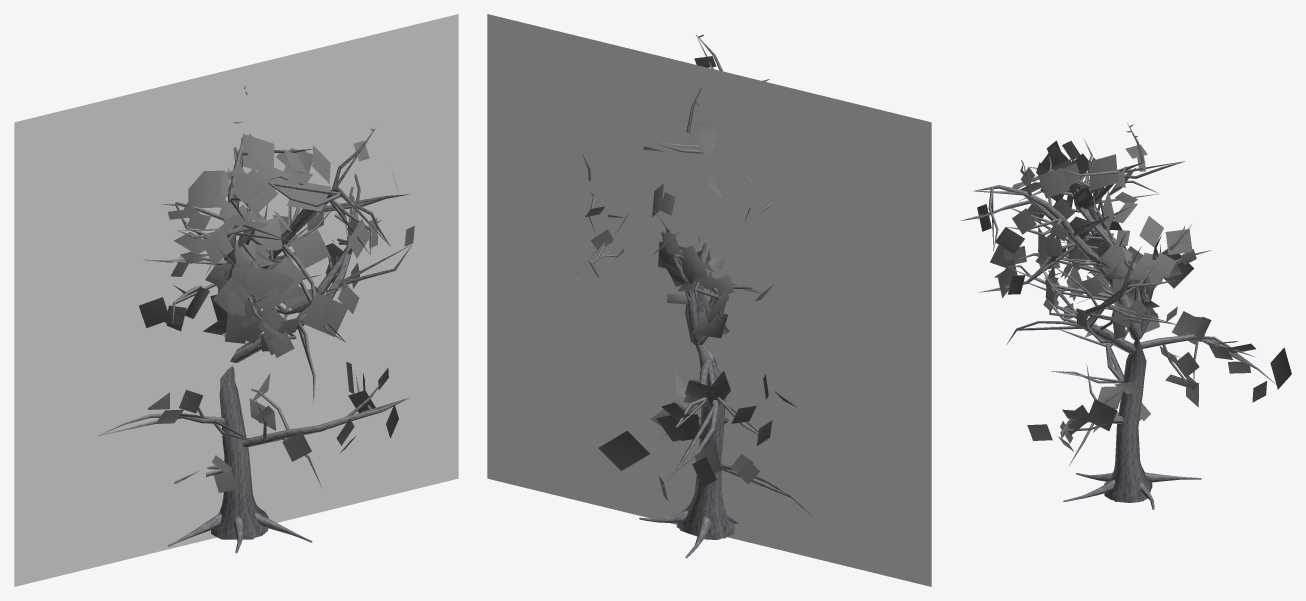
File: corrompu_adulte_a.fbx
The picture shows the model from 3 angles, left to right: view 1: azimuth 30°, elevation 25°; view 2: azimuth 150°, elevation 25°; view 3: azimuth 270°, elevation 25°; orthographic projection. The views are drawn at different scales.
Parts seen in each view (by area): view 1: corrompu_adulte_a_LOD3, corrompu_adulte_a_LOD1, corrompu_adulte_a_LOD2; view 2: corrompu_adulte_a_LOD3, corrompu_adulte_a_LOD1, corrompu_adulte_a_LOD2; view 3: corrompu_adulte_a_LOD1, corrompu_adulte_a_LOD2.
Part boxes in pixels (x1,y1,x2,y2): corrompu_adulte_a_LOD3: (14, 14, 458, 586); corrompu_adulte_a_LOD1: (98, 85, 414, 553); corrompu_adulte_a_LOD2: (99, 88, 411, 552); corrompu_adulte_a_LOD3: (487, 14, 931, 586); corrompu_adulte_a_LOD1: (577, 34, 813, 558); corrompu_adulte_a_LOD2: (577, 34, 812, 557); corrompu_adulte_a_LOD1: (960, 123, 1274, 509); corrompu_adulte_a_LOD2: (964, 125, 1291, 508).
Size of what is drawn, in the model's own units: 18.91 by 18.91 by 14.56.
